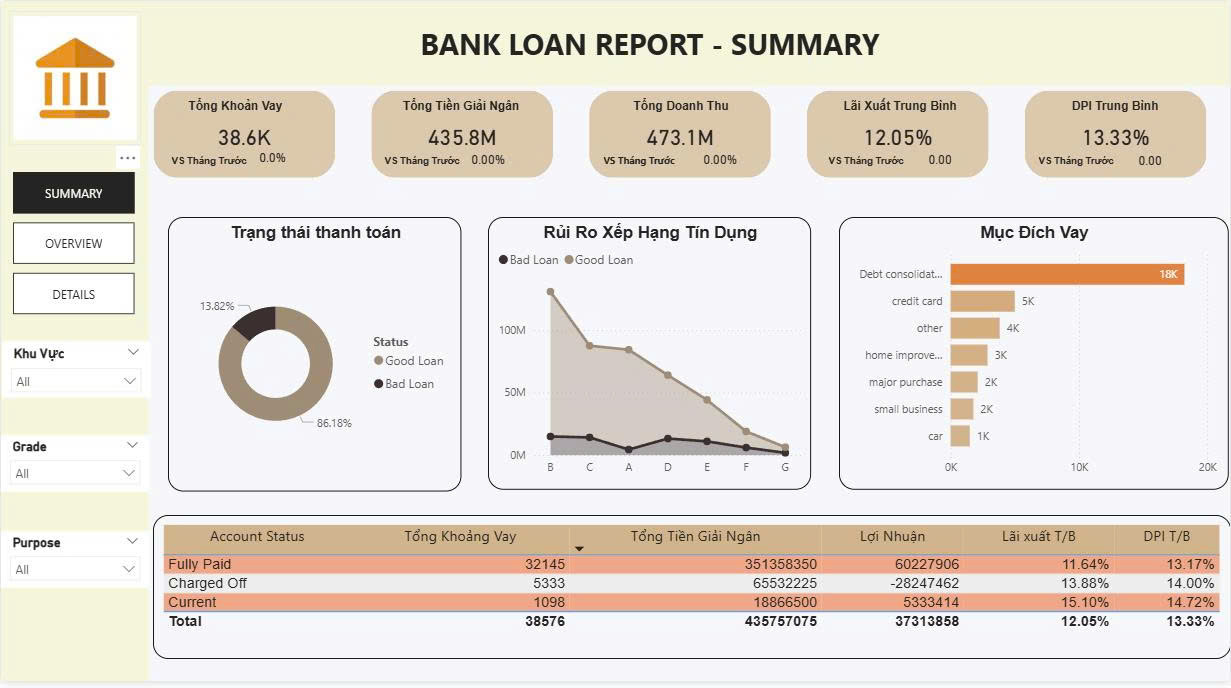

The page's visual inventory and layout, read from the dashboard file:
{"tool":"powerbi","page":{"name":"SUMMARY","canvas":[1366,756],"ordinal":0},"visuals":[{"type":"textbox","box":[8.9,16.7,351.1,53.3],"z":0},{"type":"shape","box":[0,0,1366,94],"z":1000},{"type":"shape","box":[0,85.7,164.3,670],"z":2000},{"type":"cardVisual","fields":{"Data":["CountNonNull(financial_loan_cleaned_dates.id)","financial_loan_cleaned_dates.M_Total_Amount","financial_loan_cleaned_dates.M_Payment","financial_loan_cleaned_dates.M_Avg_Rate","financial_loan_cleaned_dates.M_AVG_DPI"]},"box":[164.4,94.4,1181.1,107.8],"z":3000},{"type":"textbox","box":[184.4,162.2,135.6,30],"z":4000},{"type":"textbox","box":[421.1,162.2,135.6,30],"z":5000},{"type":"textbox","box":[664.4,162.2,135.6,30],"z":6000},{"type":"textbox","box":[412.5,101.9,198.1,26.9],"z":7000},{"type":"textbox","box":[656.4,101.8,198.2,27.3],"z":8000},{"type":"textbox","box":[900,101.8,198.2,27.3],"z":9000},{"type":"textbox","box":[1139.1,101.8,198.2,27.3],"z":10000},{"type":"card","fields":{"Values":["financial_loan_cleaned_dates.M_% total Loan_change"]},"box":[269.6,159.2,63.7,32.8],"z":11000},{"type":"card","fields":{"Values":["financial_loan_cleaned_dates.M_%chang_Total_amout"]},"box":[511.4,162.2,60.7,29.8],"z":12000},{"type":"card","fields":{"Values":["financial_loan_cleaned_dates.M_%Change Profit"]},"box":[769.1,162.2,60.7,29.8],"z":13000},{"type":"card","fields":{"Values":["financial_loan_cleaned_dates.M_%Change Rate"]},"box":[1012.8,162.2,60.7,29.8],"z":14000},{"type":"textbox","box":[914.3,162.2,98.5,29.8],"z":15000},{"type":"textbox","box":[1148.1,162.2,98.5,29.8],"z":16000},{"type":"card","fields":{"Values":["financial_loan_cleaned_dates.M_%Change Rate"]},"box":[1246.6,164.2,60.7,25.9],"z":17000},{"type":"donutChart","title":"Trạng thái thanh toán","fields":{"Category":["financial_loan_cleaned_dates.loan_status (groups)"],"Y":["Count(financial_loan_cleaned_dates.id)"]},"box":[185,240,326.2,305],"z":18000},{"type":"slicer","fields":{"Values":["financial_loan_cleaned_dates.address_state"]},"box":[1.2,377.5,165,62.5],"z":19000},{"type":"slicer","fields":{"Values":["financial_loan_cleaned_dates.grade"]},"box":[0,482.5,165,62.5],"z":20000},{"type":"slicer","fields":{"Values":["financial_loan_cleaned_dates.purpose"]},"box":[0,589,165,63],"z":21000},{"type":"tableEx","fields":{"Values":["financial_loan_cleaned_dates.loan_status","financial_loan_cleaned_dates.M_Total Loan","financial_loan_cleaned_dates.M_Total_Amount","financial_loan_cleaned_dates.M_Profit","financial_loan_cleaned_dates.M_Avg_Rate","financial_loan_cleaned_dates.M_AVG_DPI"]},"box":[168.8,571.2,1197.5,160],"z":22000},{"type":"textbox","box":[161.2,102.5,198.8,31.2],"z":23000},{"type":"clusteredBarChart","title":"Mục Đích Vay","fields":{"Category":["financial_loan_cleaned_dates.purpose"],"Y":["financial_loan_cleaned_dates.M_Total Loan"]},"box":[931.2,240,432.5,302.5],"z":24000},{"type":"stackedAreaChart","title":"Rủi Ro Xếp Hạng Tín Dụng","fields":{"Category":["financial_loan_cleaned_dates.grade"],"Y":["financial_loan_cleaned_dates.M_Total_Amount"],"Series":["financial_loan_cleaned_dates.loan_status (groups)"]},"box":[541.2,240,358.8,302.5],"z":25000},{"type":"pageNavigator","box":[12.9,190,135.7,158.6],"z":26000},{"type":"textbox","box":[387.5,20,666.2,55],"z":27000},{"type":"image","box":[8.6,11.4,147.1,148.6],"z":27001}]}

Visuals, with their boxes in screenshot pixels (x1, y1, x2, y2), scaled from the page's 1366x756 canvas onto the 1231x688 screenshot:
textbox: box(8, 15, 324, 64)
shape: box(0, 0, 1230, 86)
shape: box(0, 78, 148, 687)
cardVisual - CountNonNull(financial_loan_cleaned_dates.id) x financial_loan_cleaned_dates.M_Total_Amount: box(148, 86, 1213, 184)
textbox: box(166, 148, 288, 175)
textbox: box(379, 148, 502, 175)
textbox: box(599, 148, 721, 175)
textbox: box(372, 93, 550, 117)
textbox: box(592, 93, 770, 117)
textbox: box(811, 93, 990, 117)
textbox: box(1027, 93, 1205, 117)
card - financial_loan_cleaned_dates.M_% total Loan_change: box(243, 145, 300, 175)
card - financial_loan_cleaned_dates.M_%chang_Total_amout: box(461, 148, 516, 175)
card - financial_loan_cleaned_dates.M_%Change Profit: box(693, 148, 748, 175)
card - financial_loan_cleaned_dates.M_%Change Rate: box(913, 148, 967, 175)
textbox: box(824, 148, 913, 175)
textbox: box(1035, 148, 1123, 175)
card - financial_loan_cleaned_dates.M_%Change Rate: box(1123, 149, 1178, 173)
"Trạng thái thanh toán" donutChart: box(167, 218, 461, 496)
slicer - financial_loan_cleaned_dates.address_state: box(1, 344, 150, 400)
slicer - financial_loan_cleaned_dates.grade: box(0, 439, 149, 496)
slicer - financial_loan_cleaned_dates.purpose: box(0, 536, 149, 593)
tableEx - financial_loan_cleaned_dates.loan_status x financial_loan_cleaned_dates.M_Total Loan: box(152, 520, 1230, 665)
textbox: box(145, 93, 324, 122)
"Mục Đích Vay" clusteredBarChart: box(839, 218, 1229, 494)
"Rủi Ro Xếp Hạng Tín Dụng" stackedAreaChart: box(488, 218, 811, 494)
pageNavigator: box(12, 173, 134, 317)
textbox: box(349, 18, 950, 68)
image: box(8, 10, 140, 146)
